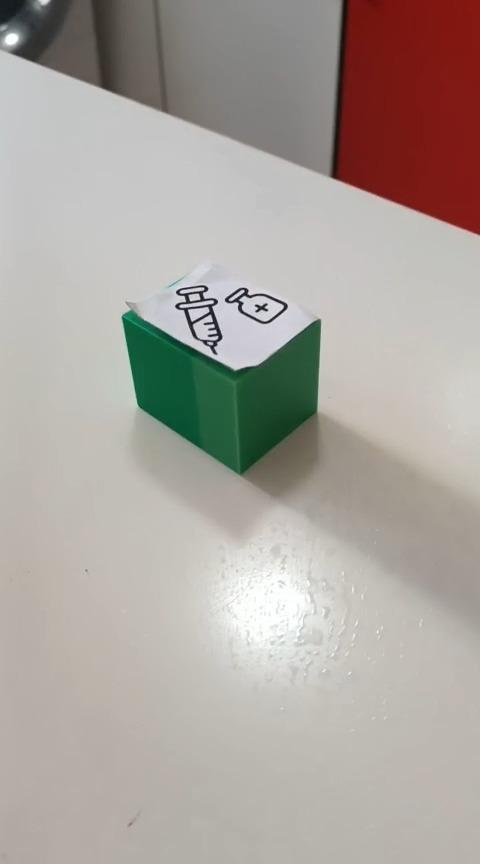antiseptic cream: (120, 259, 322, 475)
